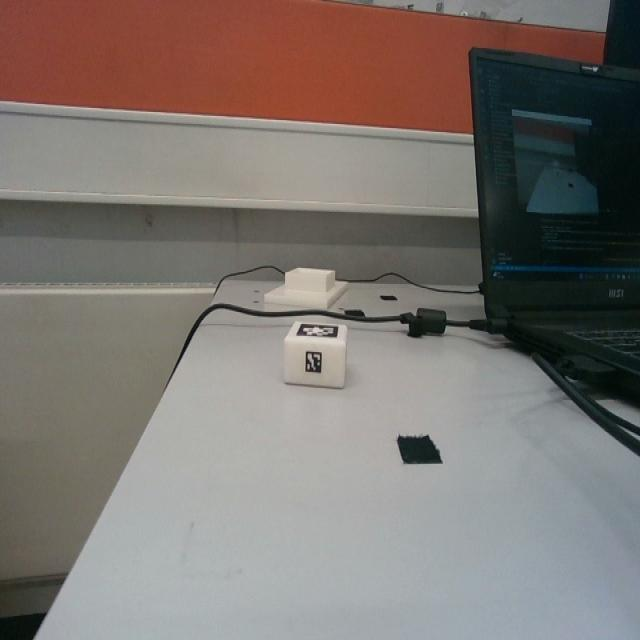Cube: (280, 322, 345, 394)
